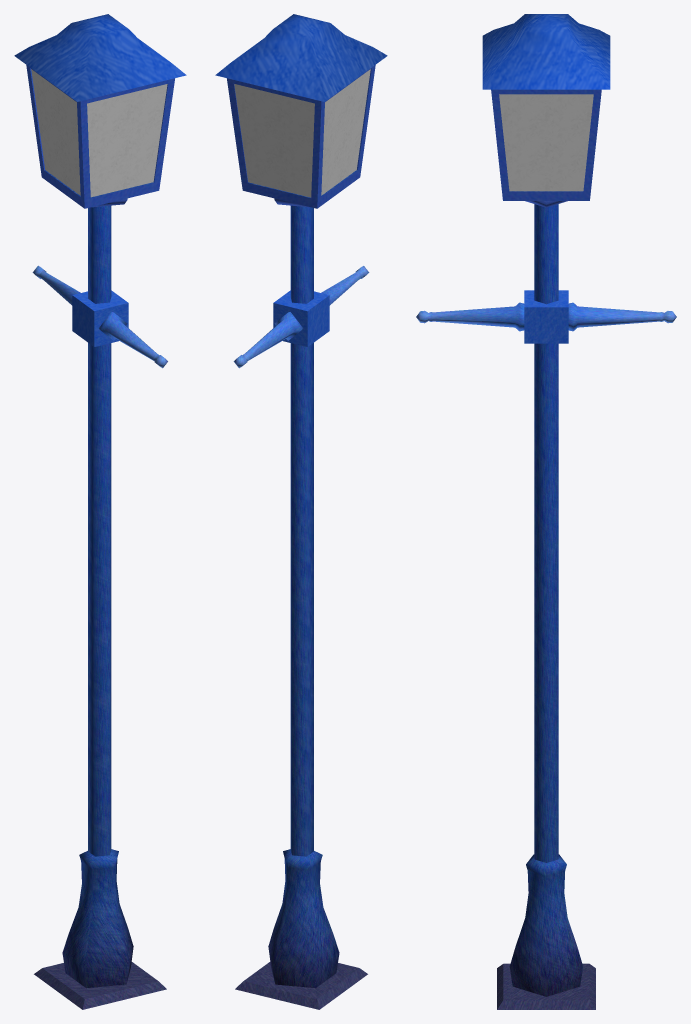
Rendered from Lamp Post.fbx.
3 views of the same model, side by side, from view 1: azimuth 30°, elevation 25°; view 2: azimuth 150°, elevation 25°; view 3: azimuth 270°, elevation 25° (orthographic).
Visible parts, largest first — view 1: Lamp_Post; view 2: Lamp_Post; view 3: Lamp_Post.
Part boxes in pixels (left/top/right/bottom): Lamp_Post: left=14, top=14, right=186, bottom=1009; Lamp_Post: left=215, top=14, right=387, bottom=1009; Lamp_Post: left=416, top=14, right=676, bottom=1009.
Size of the model in its own units: 1.29 by 10.87 by 2.64.
